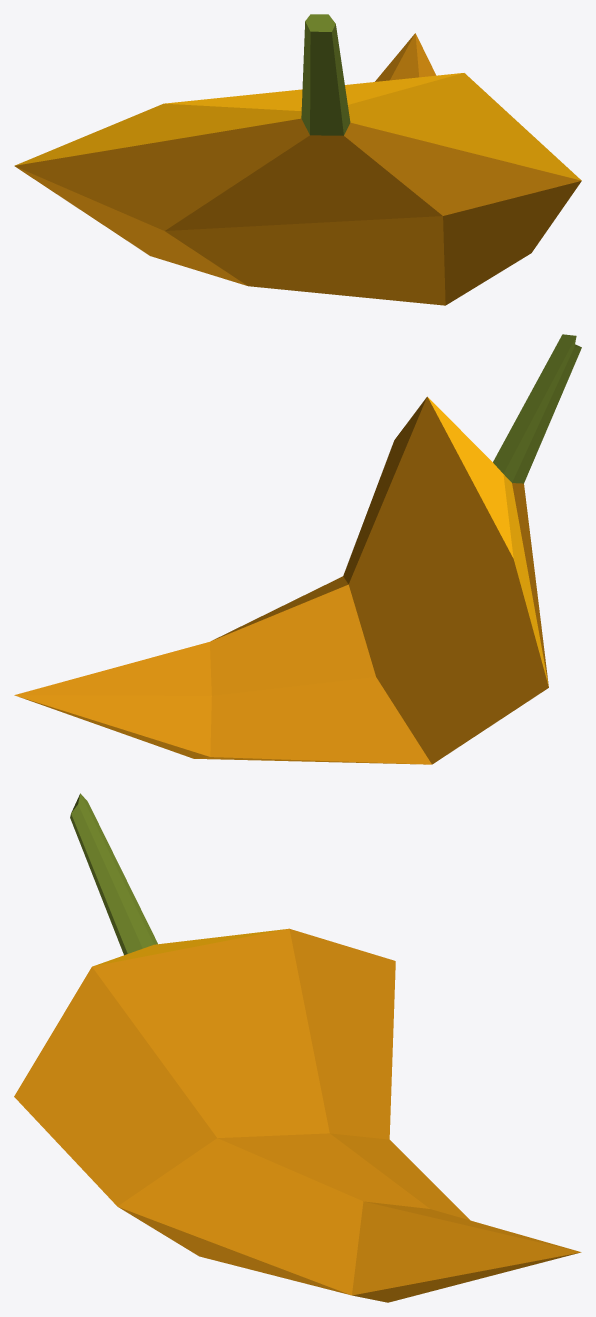
The model's file is Leaf1_Alt3.fbx.
3 views of the same model, one above another, from view 1: azimuth 30°, elevation 25°; view 2: azimuth 150°, elevation 25°; view 3: azimuth 270°, elevation 25° (orthographic). The views are drawn at different scales.
Visible parts, largest first — view 1: Leaf1_Alt3; view 2: Leaf1_Alt3; view 3: Leaf1_Alt3.
Part boxes in pixels (x1,y1,x2,y2): Leaf1_Alt3: (14,14,581,305); Leaf1_Alt3: (14,334,581,764); Leaf1_Alt3: (14,793,581,1302).
Size of the model in its own units: 0.268 by 0.1977 by 0.2746.
